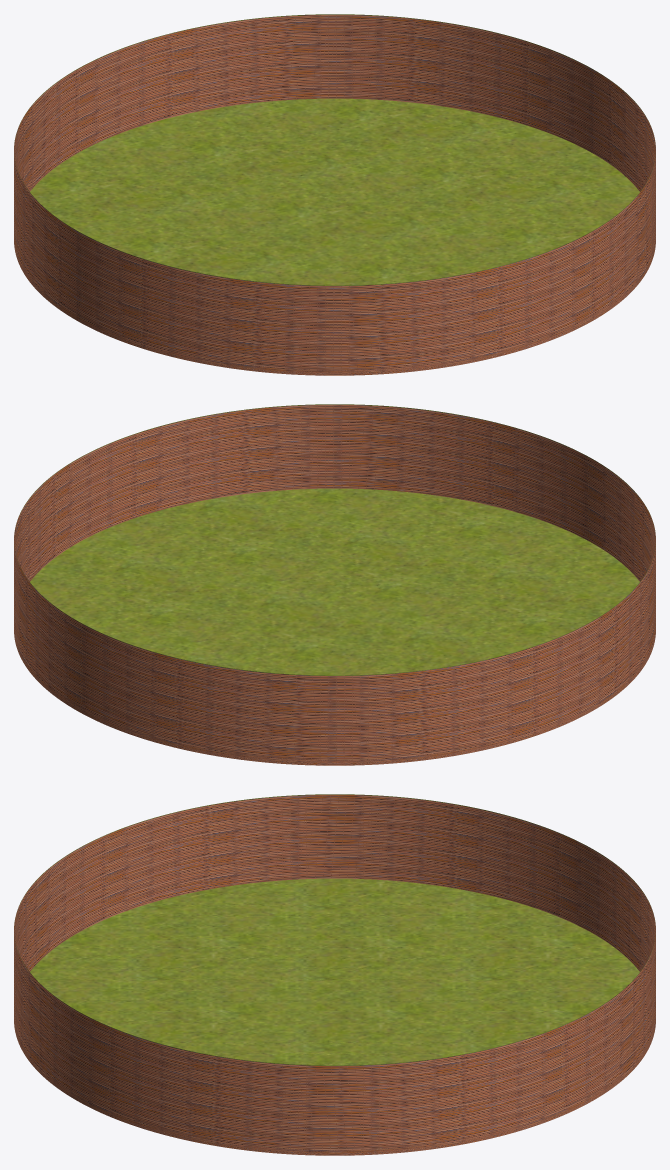
The picture shows the model from 3 angles, top to bottom: view 1: azimuth 30°, elevation 25°; view 2: azimuth 150°, elevation 25°; view 3: azimuth 270°, elevation 25°; orthographic projection.
Visible parts, largest first — view 1: Cylinder; view 2: Cylinder; view 3: Cylinder.
Boxes of the visible parts, left/top/right/bottom form: Cylinder: left=14, top=14, right=655, bottom=375; Cylinder: left=14, top=404, right=655, bottom=765; Cylinder: left=14, top=794, right=655, bottom=1155.
Bounding box in the file's own units: 99.99 × 15.5 × 100.
1 material, 1 textured.
